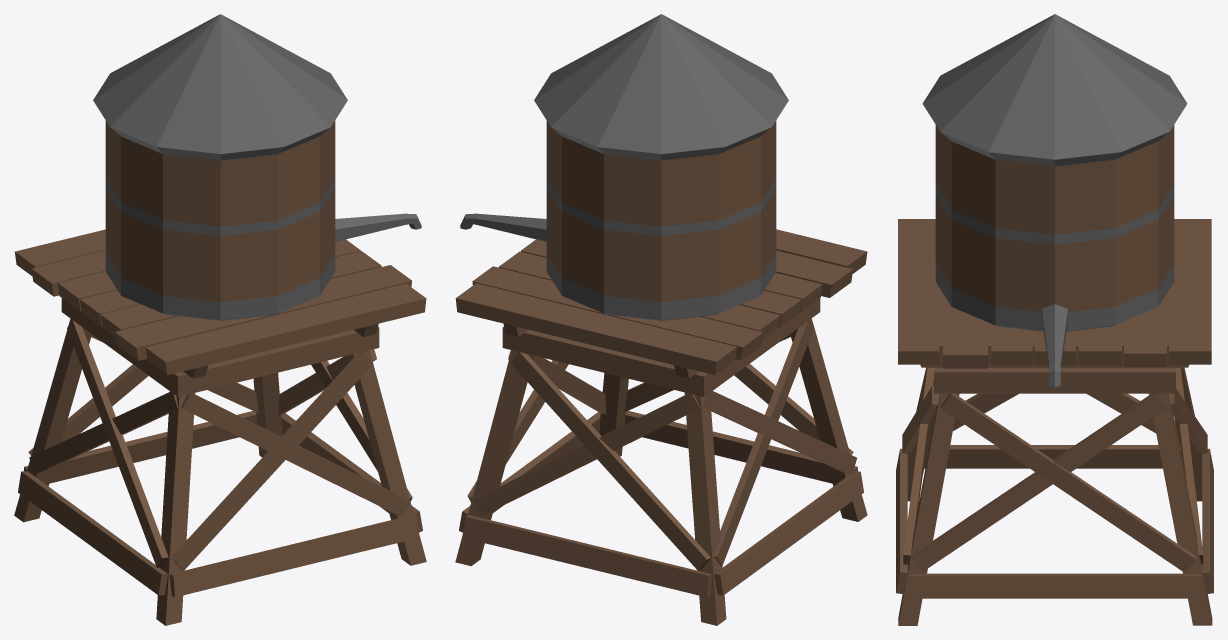
The model's file is water-tower.fbx.
3 views of the same model, side by side, from view 1: azimuth 30°, elevation 25°; view 2: azimuth 150°, elevation 25°; view 3: azimuth 270°, elevation 25° (orthographic). The views are drawn at different scales.
Visible parts, largest first — view 1: water-tower; view 2: water-tower; view 3: water-tower.
Part boxes in pixels (x1=…): water-tower: x1=14, y1=14, x2=426, y2=625; water-tower: x1=455, y1=14, x2=867, y2=625; water-tower: x1=896, y1=14, x2=1213, y2=625.
Bounding box in the file's own units: 5.2 × 7.69 × 4.06.
